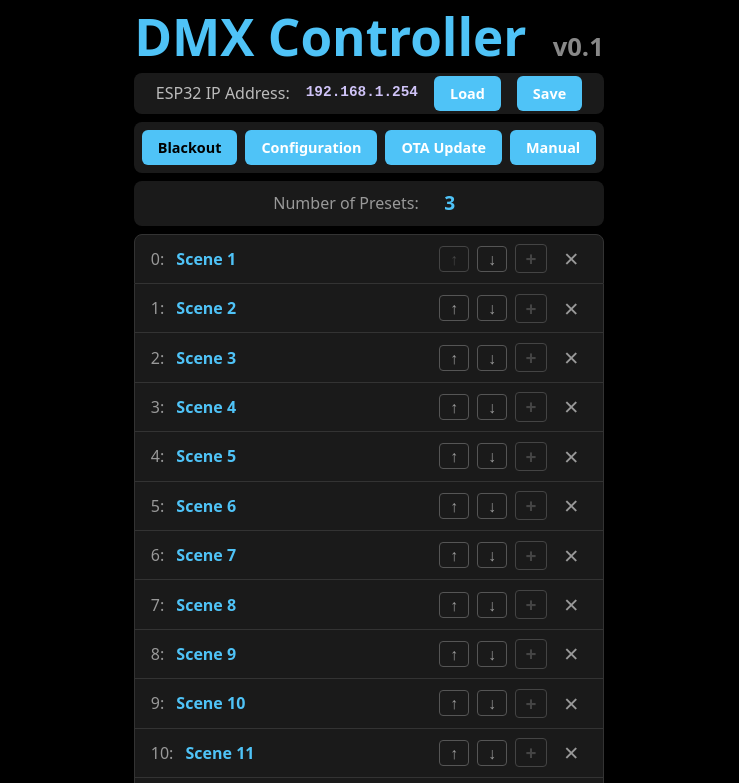
Test case: Load button fetches all data and updates status
The width and height of the screenshot is (739, 783).
Click the button "Load" at {"x": 467, "y": 93}, box [434,76,501,111]
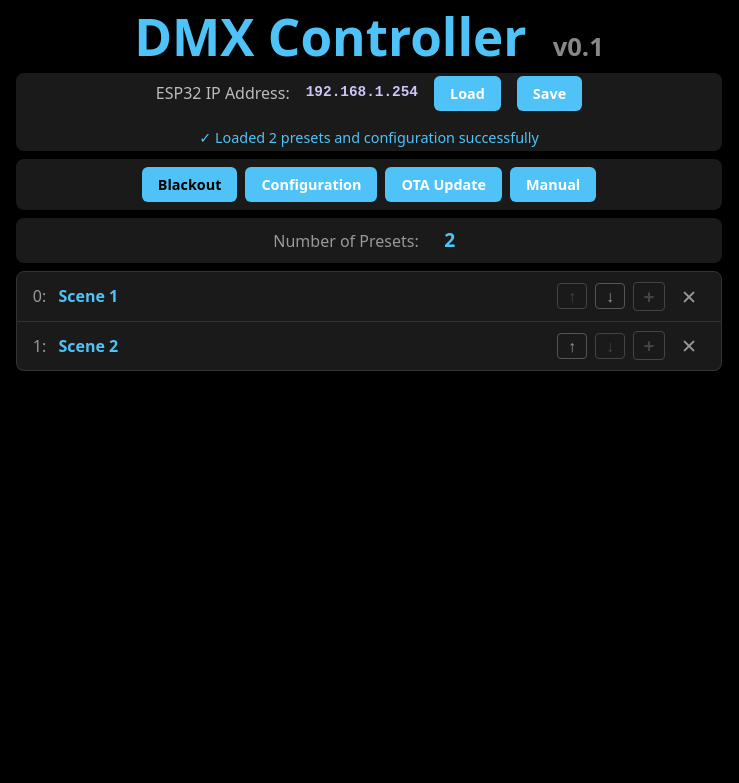
Expected: the text "✓ Loaded 2 presets and configuration successfully" is shown, [199,128,539,147]
